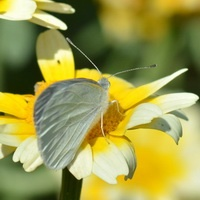insect: (34, 31, 197, 183), (34, 31, 109, 168)
